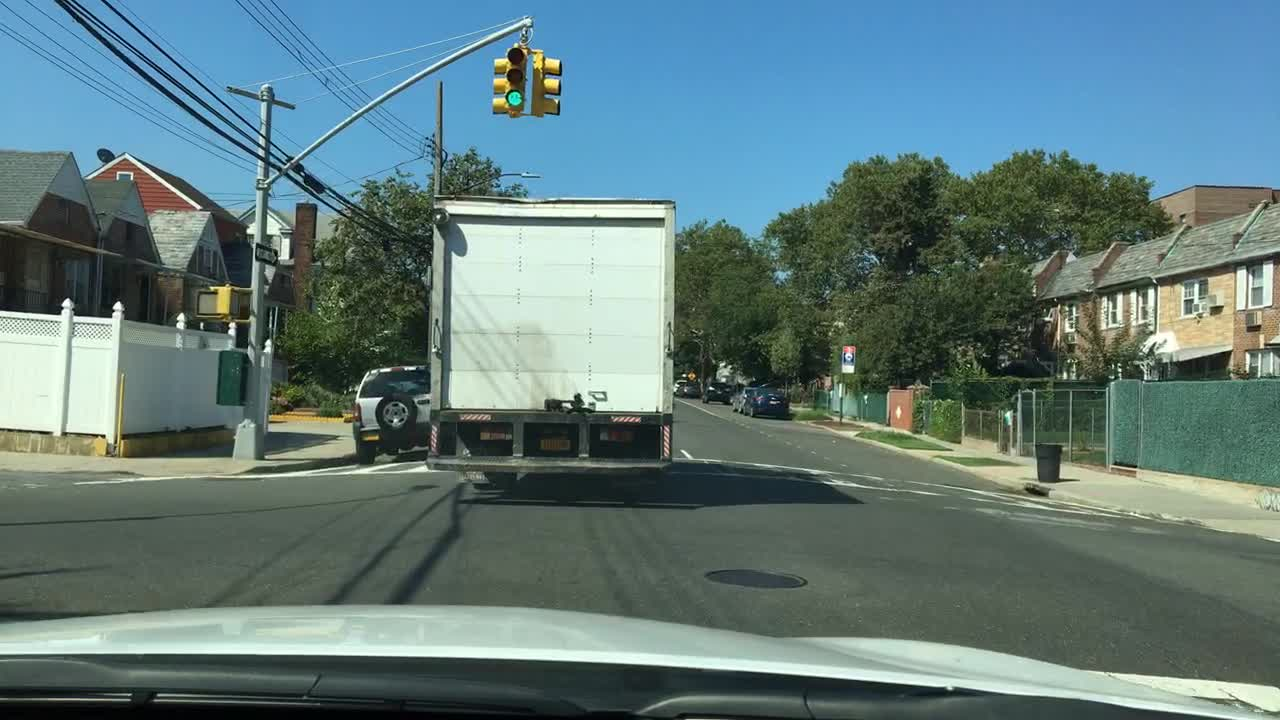car: (354, 364, 430, 467), (741, 383, 791, 420), (700, 374, 730, 405), (730, 386, 757, 413), (670, 376, 700, 400)
traffic light: (530, 52, 563, 118), (501, 47, 528, 118), (489, 57, 509, 115), (217, 287, 241, 320), (192, 288, 217, 319)
traffic sign: (255, 243, 280, 266)
truck: (425, 192, 676, 489)
